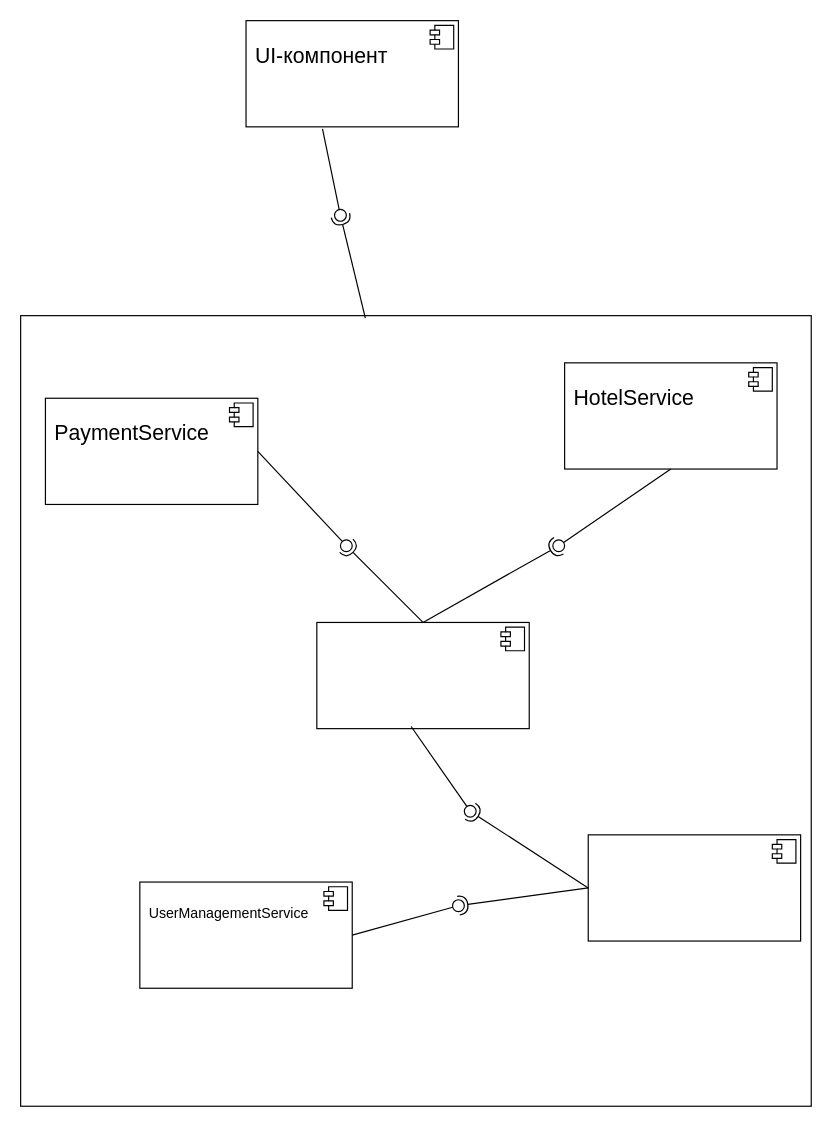
Image size: 832x1127. Some labels were removed from this diagram. Here are the shapes that lost their labels. From the top down, the centre of each, then its label:
At [422,675]: "BookingService".
At [694,887]: "NotificationService".
